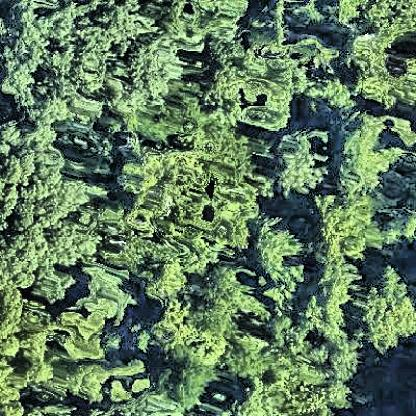tree-top: (1, 107, 109, 301), (126, 125, 252, 258), (1, 298, 145, 406), (75, 7, 184, 109), (5, 1, 78, 125), (213, 32, 302, 132), (312, 196, 372, 307), (346, 30, 416, 113), (249, 213, 307, 309), (359, 262, 416, 357), (336, 118, 394, 205), (162, 1, 257, 52), (265, 129, 328, 200), (230, 378, 345, 416), (151, 263, 201, 350), (199, 264, 250, 338), (329, 1, 416, 40), (168, 355, 218, 409)
